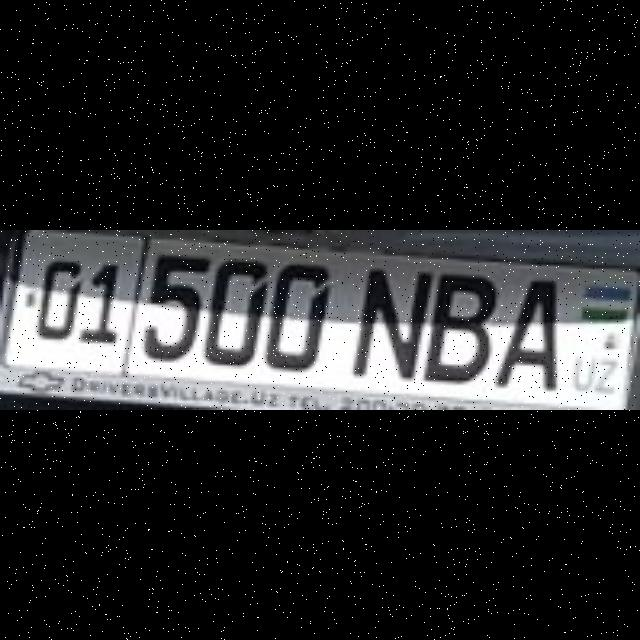0: (261, 260, 325, 368), (202, 256, 264, 362), (32, 256, 74, 336)
1: (78, 259, 112, 339)
5: (141, 253, 209, 359)
A: (495, 274, 553, 388)
B: (422, 268, 492, 382)
N: (350, 266, 428, 378)
